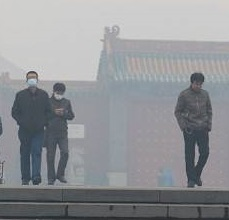person: (11, 70, 55, 186), (174, 72, 214, 187), (46, 80, 77, 186)
